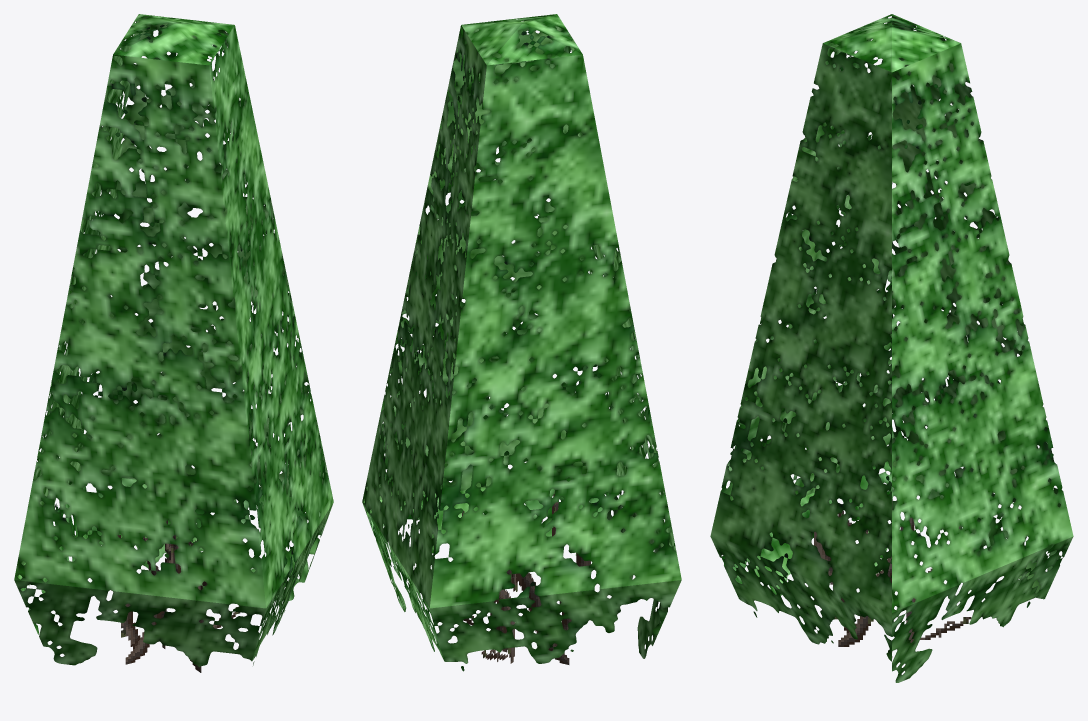
The model's file is bush_end_tall_roots_spring.fbx.
The picture shows the model from 3 angles, left to right: view 1: azimuth 30°, elevation 25°; view 2: azimuth 150°, elevation 25°; view 3: azimuth 270°, elevation 25°; orthographic projection.
Parts seen in each view (by area): view 1: bush_end_tall_roots_spring; view 2: bush_end_tall_roots_spring; view 3: bush_end_tall_roots_spring.
Boxes of the visible parts, bbox=[...] form: bush_end_tall_roots_spring: bbox=[14, 14, 333, 672]; bush_end_tall_roots_spring: bbox=[362, 14, 681, 671]; bush_end_tall_roots_spring: bbox=[710, 14, 1073, 682].
Size of the model in its own units: 139 by 263 by 139.
2 materials, 2 textured.
